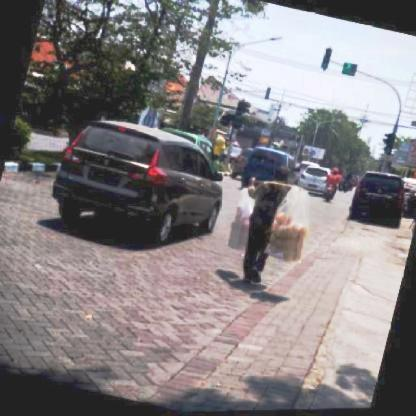Traffic Light -Green-: (382, 134, 397, 158), (320, 49, 334, 73), (233, 104, 244, 127)
